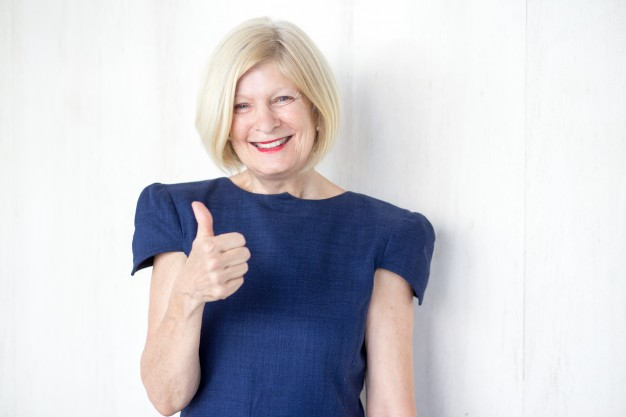thumbsup: (190, 199, 251, 302)
